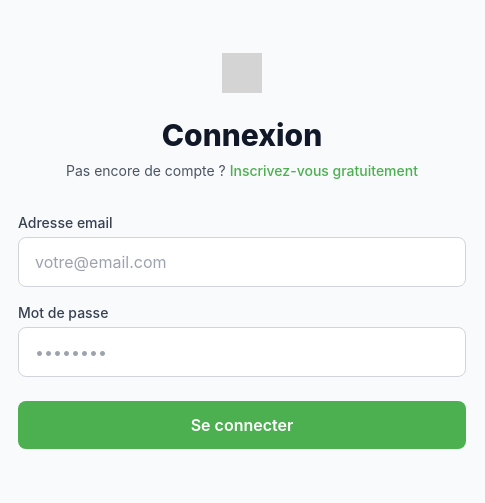
Test: Page Login › affiche une erreur si la connexion échoue
The width and height of the screenshot is (485, 503).
Type "test@test.fr" into the field with placeholder "votre@email.com".
click(242, 262); type("test@test.fr")  # box x1=18 y1=237 x2=466 y2=287
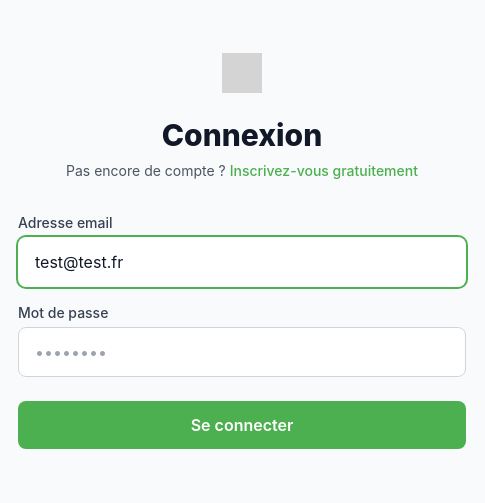
Type "motdepasse" into the password field with placeholder "••••••••".
click(242, 352); type("motdepasse")  # box x1=18 y1=327 x2=466 y2=377
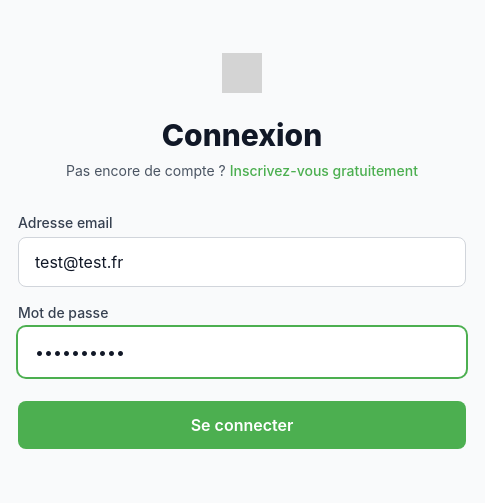
Click the button "Se connecter".
click(242, 425)  # box x1=18 y1=401 x2=466 y2=449
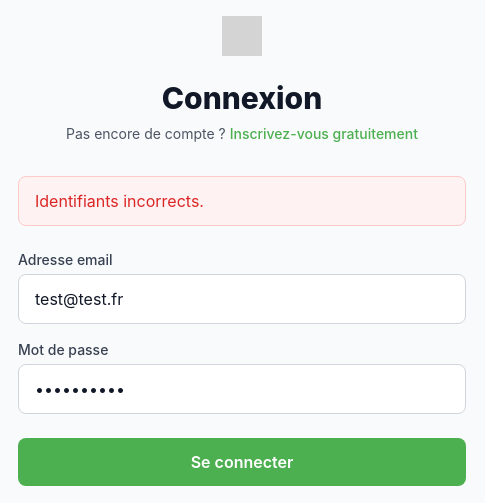
Check: the text "Identifiants incorrects." is shown, box x1=18 y1=176 x2=466 y2=226
